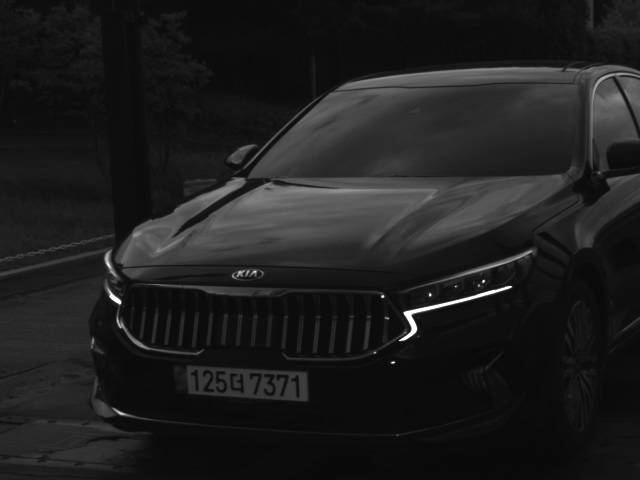car: (87, 60, 640, 448)
plate: (171, 364, 311, 402)
